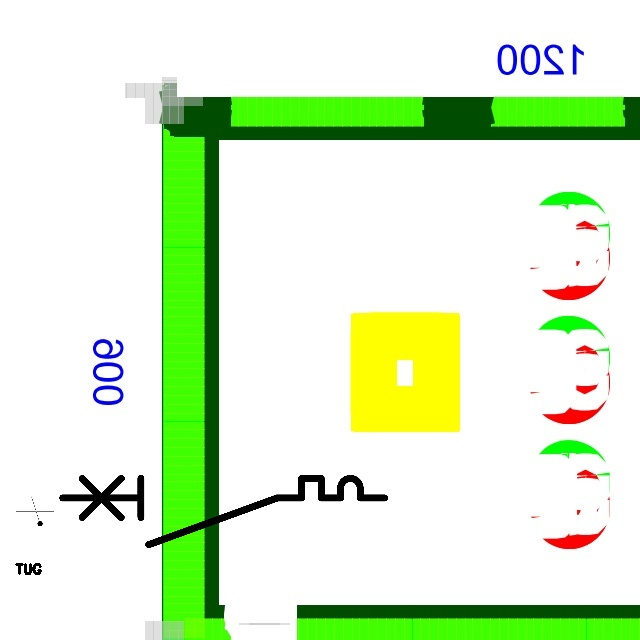interruptor_termomagnetico: (54, 470, 393, 553)
